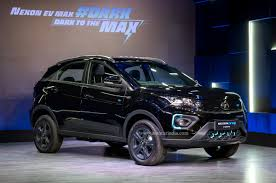Tata Nexon: (30, 55, 248, 169)
